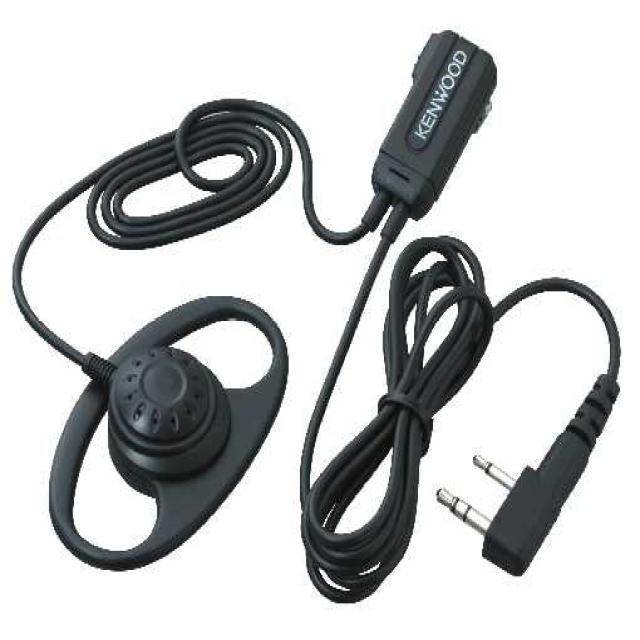microphone: (41, 296, 284, 566)
